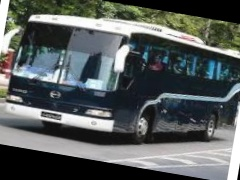bus: (1, 2, 240, 163)
